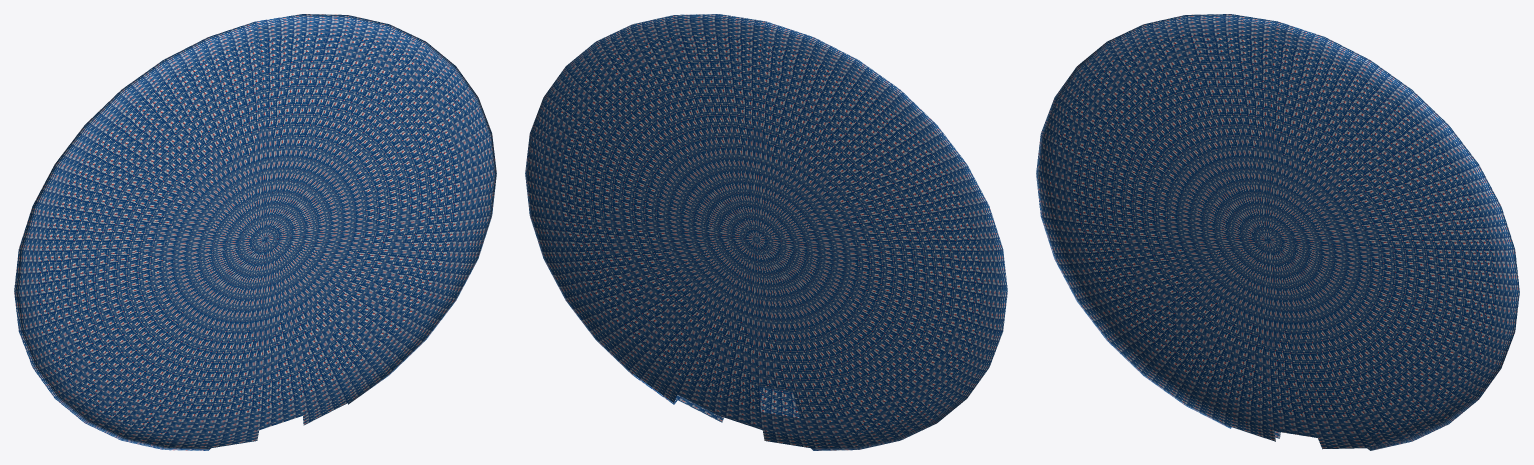
3 views of the same model, side by side, from view 1: azimuth 30°, elevation 25°; view 2: azimuth 150°, elevation 25°; view 3: azimuth 330°, elevation 25° (orthographic).
Bounding box in the file's own units: 0.1356 × 0.1122 × 0.00969.
1 material, 1 textured.
